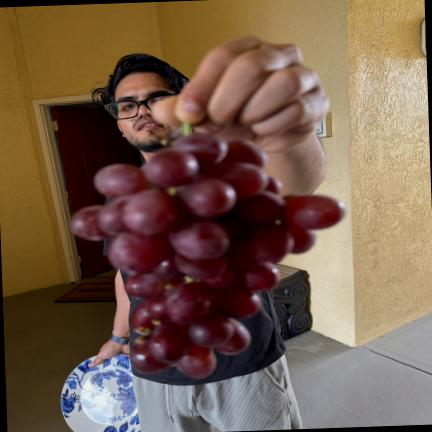grape_cluster: (71, 124, 345, 379)
